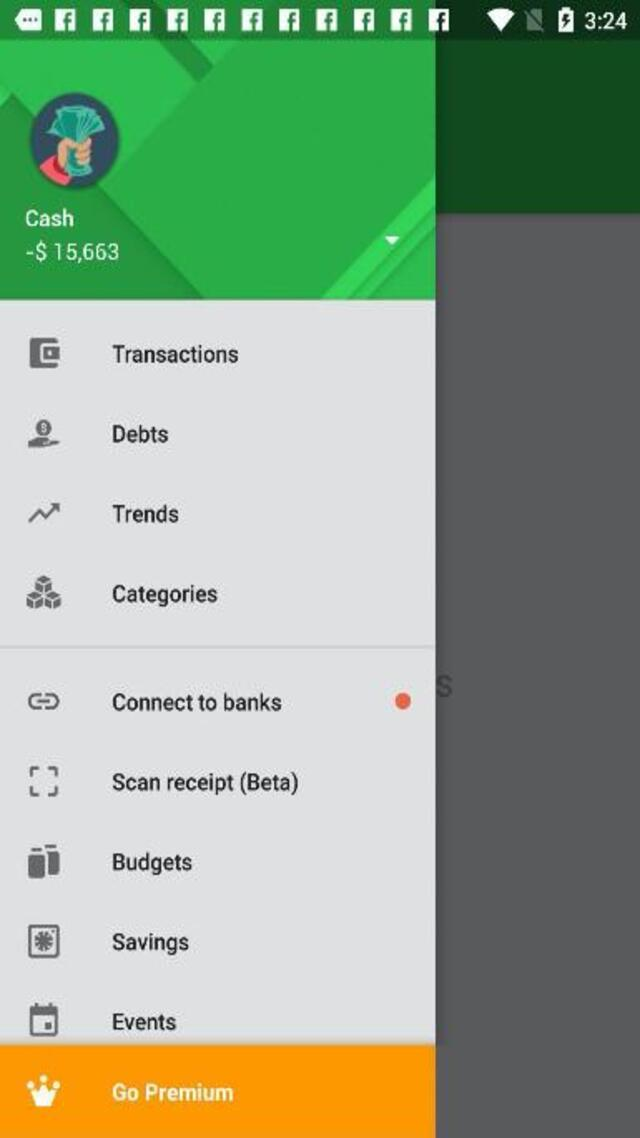Icon: (26, 574, 60, 610), (26, 1074, 60, 1106), (27, 844, 59, 878), (27, 924, 59, 957), (29, 1002, 57, 1036), (30, 337, 60, 367), (27, 420, 59, 448), (29, 766, 57, 795), (27, 501, 59, 522), (27, 692, 59, 710), (385, 236, 400, 244)
Image: (30, 92, 120, 188)
Text: (111, 770, 298, 795), (111, 692, 281, 713), (112, 1082, 234, 1102), (112, 584, 217, 607), (111, 345, 238, 363), (26, 239, 120, 262), (113, 852, 193, 876), (111, 932, 188, 956), (111, 504, 178, 524), (113, 1012, 176, 1030), (114, 425, 169, 443), (26, 208, 74, 228)
